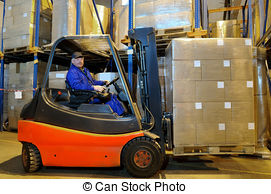unit_load: (160, 38, 263, 158)
